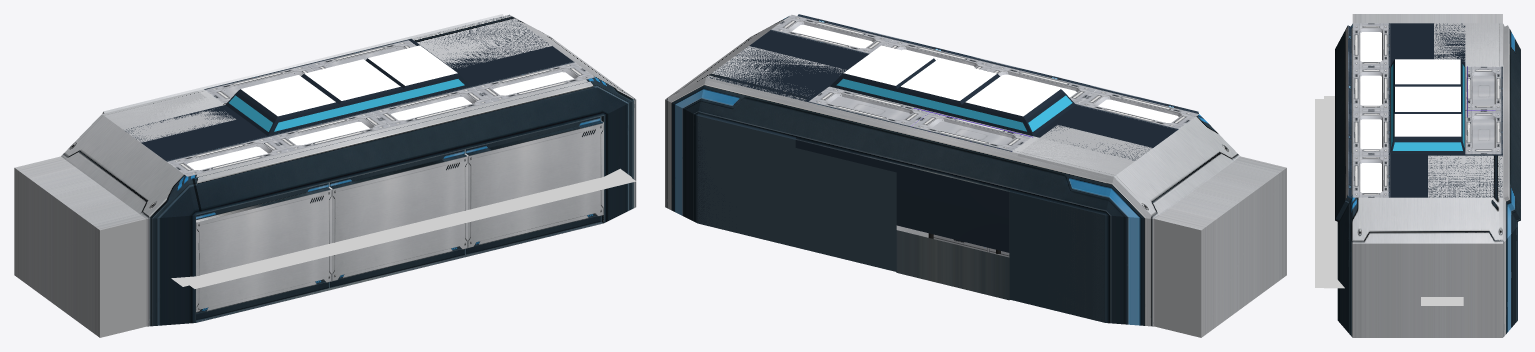
File: terrainVehicleInterior.glb
3 renders of one model, left to right at view 1: azimuth 30°, elevation 25°; view 2: azimuth 150°, elevation 25°; view 3: azimuth 270°, elevation 25°, orthographic. The views are drawn at different scales.
Parts seen in each view (by area): view 1: Floor_main, Collirder_Section01, main_light_02, main_light_01, main_light_03, 2_light_01, 2_light_02, 2_light_03, 2_light_04; view 2: Floor_main, main_light_02, main_light_01, main_light_03, 2_light_01, 2_light_04; view 3: Floor_main, Collirder_Section01, main_light_01, main_light_02, main_light_03, 2_light_02, 2_light_03, 2_light_01, 2_light_04.
Boxes of the visible parts, <box> form: Floor_main: <box>14,14,636,337</box>; Collirder_Section01: <box>171,168,636,288</box>; main_light_02: <box>304,59,400,100</box>; main_light_01: <box>241,75,335,116</box>; main_light_03: <box>368,45,457,85</box>; 2_light_01: <box>493,72,573,95</box>; 2_light_02: <box>391,97,471,120</box>; 2_light_03: <box>289,122,369,145</box>; 2_light_04: <box>187,146,267,170</box>; Floor_main: <box>665,14,1286,337</box>; main_light_02: <box>901,59,996,100</box>; main_light_01: <box>965,75,1060,116</box>; main_light_03: <box>843,45,933,85</box>; 2_light_01: <box>792,25,872,48</box>; 2_light_04: <box>1098,99,1178,122</box>; Floor_main: <box>1335,14,1520,337</box>; Collirder_Section01: <box>1315,96,1463,305</box>; main_light_01: <box>1395,59,1460,84</box>; main_light_02: <box>1395,86,1460,111</box>; main_light_03: <box>1394,114,1461,136</box>; 2_light_02: <box>1360,119,1382,149</box>; 2_light_03: <box>1360,75,1381,105</box>; 2_light_01: <box>1360,163,1382,192</box>; 2_light_04: <box>1360,32,1382,61</box>.
Size of the model in its own units: 12.51 by 3.41 by 4.56.
14 materials, 10 textured.
